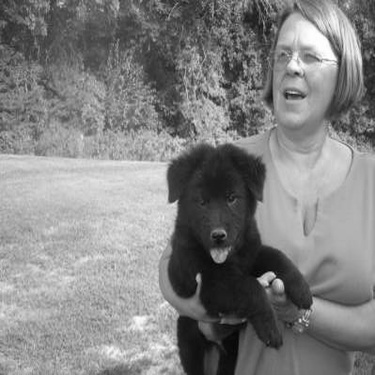dog: (137, 126, 313, 374)
